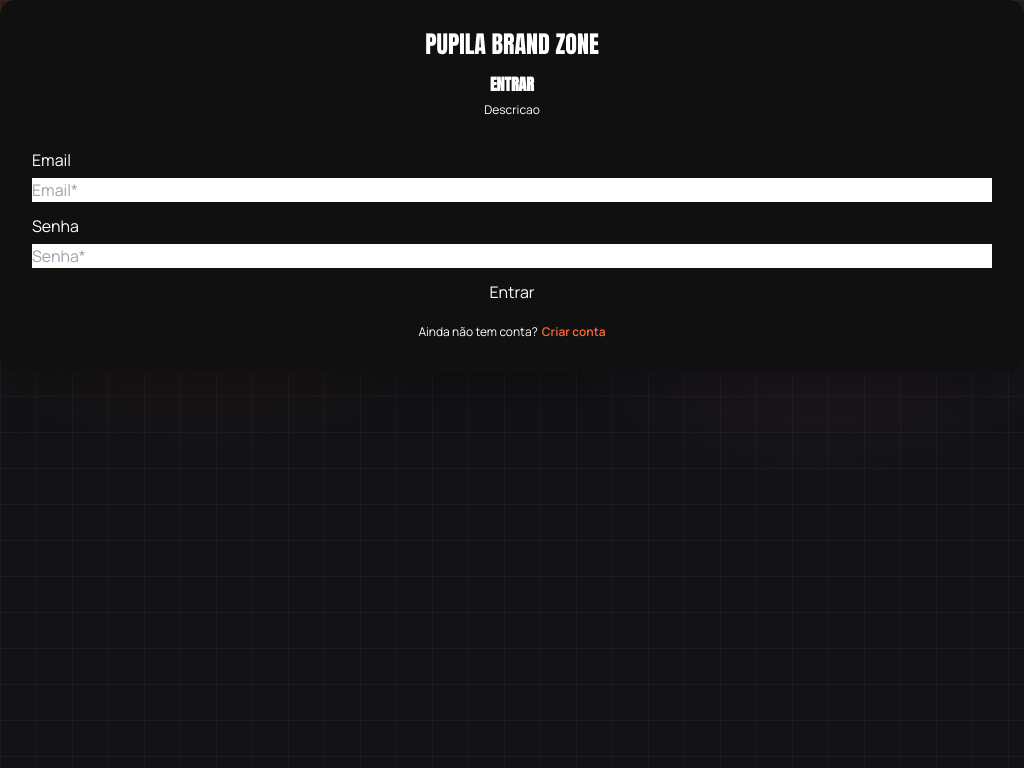
AuthCard › validates sign in fields
Step 1. Type "invalido" into the field labelled "Email" → (512, 190), box [32,178,992,202]
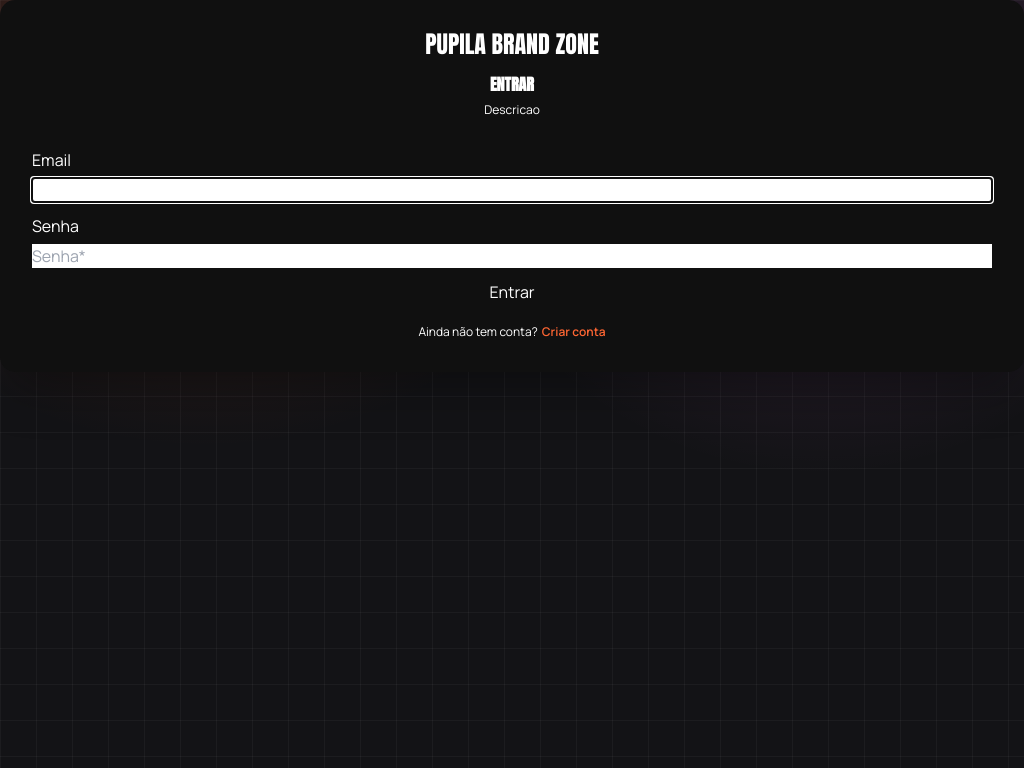
Step 2. Type "123" into the password field labelled "Senha" → (512, 256), box [32,244,992,268]
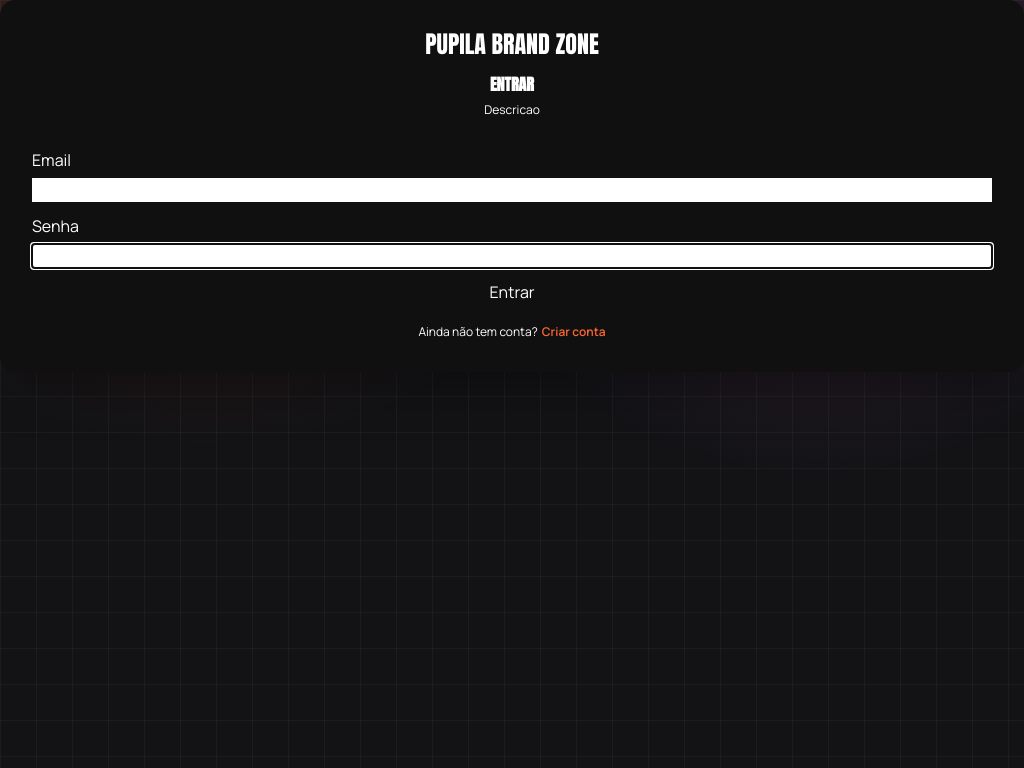
Step 3. Click the button "Entrar" → click(512, 292), box [32,280,992,304]
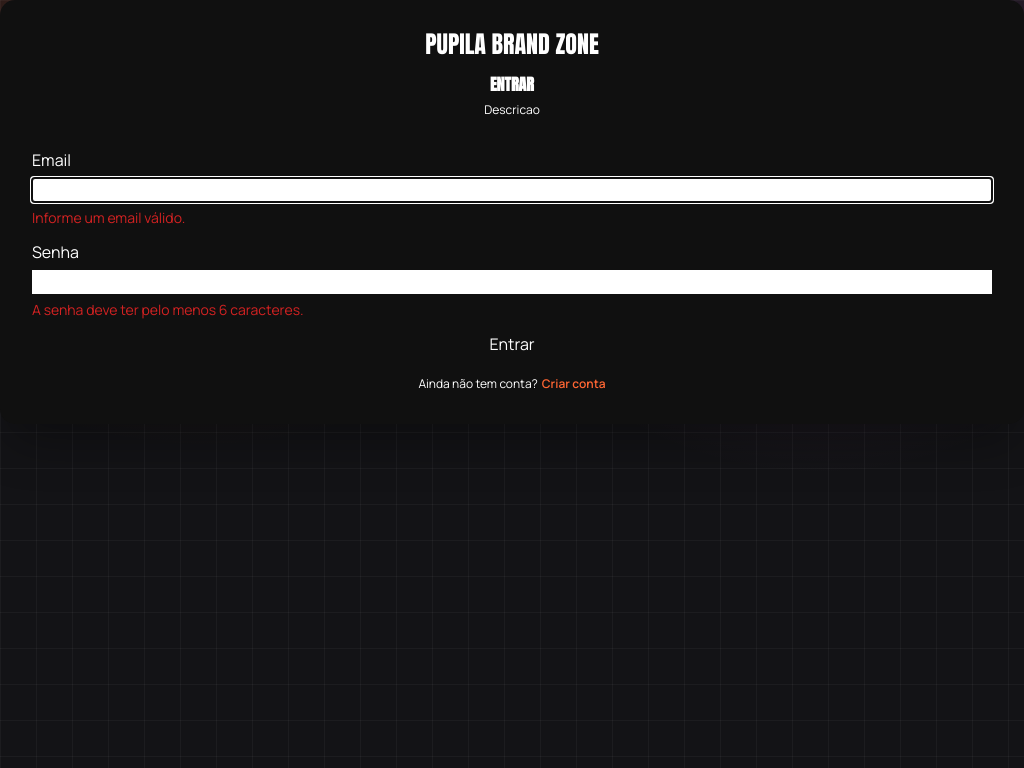
Now the text "Informe um email válido." is shown, box [32,208,185,227]
Now the text "A senha deve ter pelo menos 6 caracteres." is shown, box [32,300,304,319]
